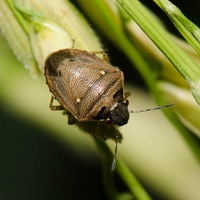insect: (44, 47, 155, 125)
